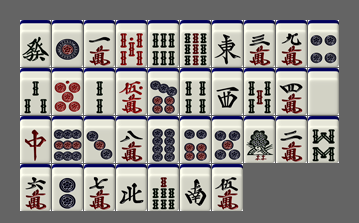0m: (116, 68, 147, 115)
0p: (52, 68, 83, 115)
0s: (116, 20, 147, 67)
1m: (84, 20, 115, 67)
1p: (52, 20, 83, 67)
1s: (244, 116, 275, 163)
1z: (212, 20, 243, 67)
2m: (276, 116, 307, 163)
2p: (52, 164, 83, 211)
2s: (84, 68, 115, 115)
2z: (180, 164, 211, 211)
3m: (244, 20, 275, 67)
3p: (84, 116, 115, 163)
3s: (20, 68, 51, 115)
3z: (212, 68, 243, 115)
4m: (276, 68, 307, 115)
4p: (308, 20, 339, 67)
4s: (180, 68, 211, 115)
4z: (116, 164, 147, 211)
5m: (212, 164, 243, 211)
5p: (212, 116, 243, 163)
5s: (244, 68, 275, 115)
5z: (308, 68, 339, 115)
6m: (20, 164, 51, 211)
6p: (180, 116, 211, 163)
6s: (148, 20, 179, 67)
6z: (20, 20, 51, 67)
7m: (84, 164, 115, 211)
7p: (148, 68, 179, 115)
7s: (148, 164, 179, 211)
7z: (20, 116, 51, 163)
8m: (116, 116, 147, 163)
8p: (148, 116, 179, 163)
8s: (308, 116, 339, 163)
9m: (276, 20, 307, 67)
9p: (52, 116, 83, 163)
9s: (180, 20, 211, 67)
